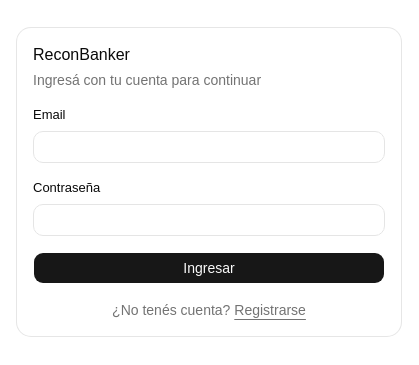
Test: Login page › maps a server validation error on email to the email field
The width and height of the screenshot is (419, 365).
Type "ok@x.com" into the field labelled "Email".
click(209, 147); type("ok@x.com")  # box [33,131,385,163]
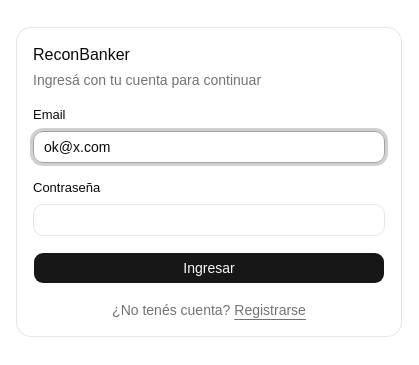
Type "good" into the password field labelled "Contraseña".
click(209, 220); type("good")  # box [33,204,385,236]
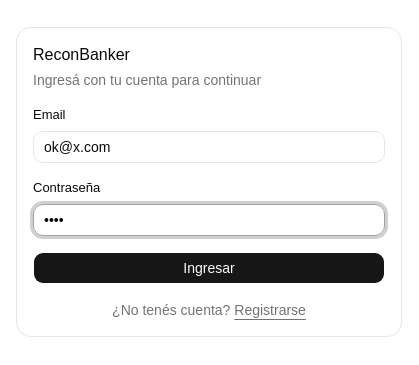
Click the button "Ingresar".
click(209, 268)  # box [33,252,385,284]
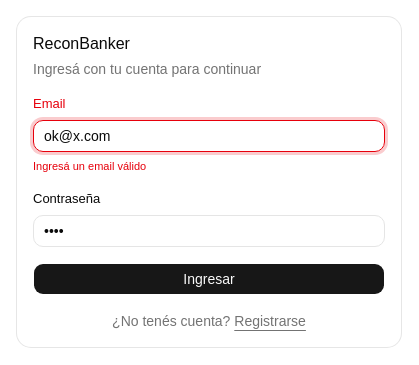
Expected: the text "Ingresá un email válido" is shown, [33,158,146,174]
